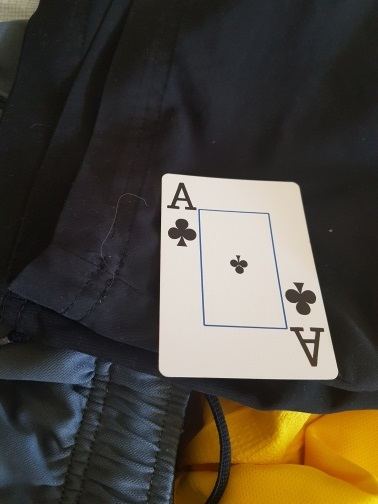ace: (160, 172, 340, 384)
